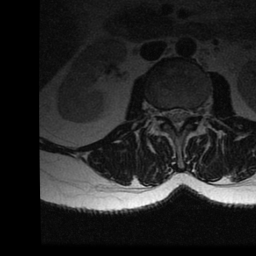CCS_normal: (173, 100, 181, 138)
LFS_normal: (189, 100, 198, 123)
LLS_normal: (180, 101, 188, 126)
RFS_stenosis: (157, 101, 165, 122)
RLS_normal: (165, 102, 172, 125)
